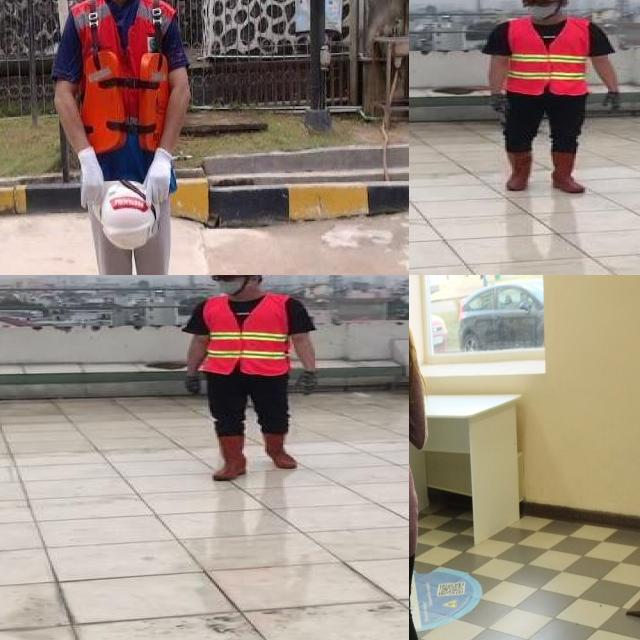boots: (551, 148, 590, 193), (214, 433, 249, 479), (262, 430, 297, 469), (503, 151, 533, 191)
face_mask: (520, 0, 556, 20), (210, 275, 244, 294)
glasses: (520, 0, 555, 8), (209, 275, 239, 283)
hand_glove: (296, 369, 318, 396), (487, 93, 509, 115), (184, 374, 206, 394), (604, 91, 622, 109)
person: (30, 0, 205, 275), (181, 275, 323, 483), (477, 0, 624, 196)
vest: (67, 0, 177, 190), (199, 296, 292, 374), (506, 18, 586, 93)
